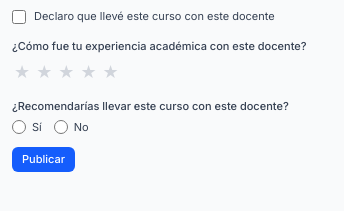
Test case: ReviewForm — rechazo del servidor › un fallo inesperado se muestra y devuelve el botón
This screenshot has width=344, height=211.
Click the checkbox labelled "Declaro que llevé este curso con este docente" at (19, 17), box [12, 10, 26, 24]
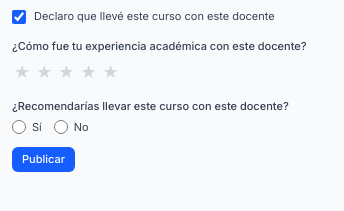
Click the radio button named "4 estrellas" at (88, 72), box [78, 58, 98, 86]
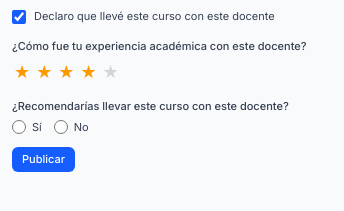
Click the radio button labelled "Sí" at (19, 127), box [12, 120, 26, 134]
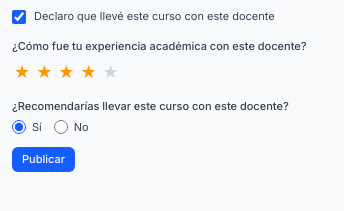
Click the button "Publicar" at (44, 160), box [12, 147, 75, 172]
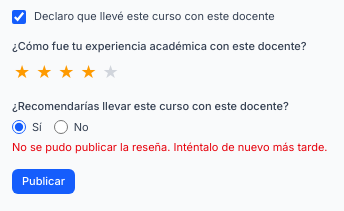
Expected: the button "Publicar" is enabled, [12, 169, 75, 194]
Expected: the text "No se pudo publicar la reseña. Inténtalo de nuevo más tarde." is shown, [12, 140, 328, 154]
